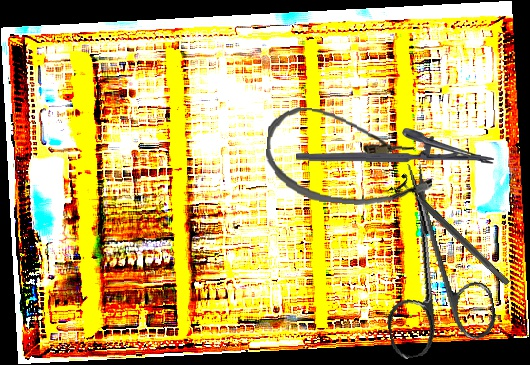Cannula: (262, 104, 438, 212)
Fixation Ring: (389, 172, 516, 293)
Iris Scissors: (358, 152, 501, 362)
Needle Holder: (295, 126, 495, 165)
